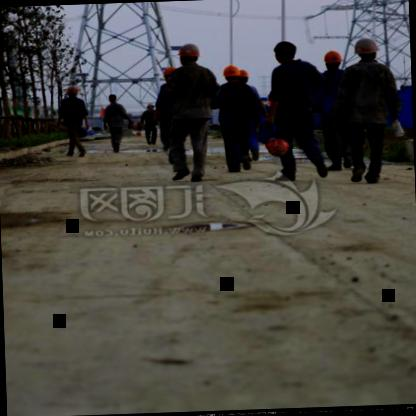helmet: (352, 36, 380, 62), (176, 42, 202, 66), (322, 47, 345, 72), (221, 62, 241, 83), (160, 64, 177, 86), (64, 83, 80, 98)
